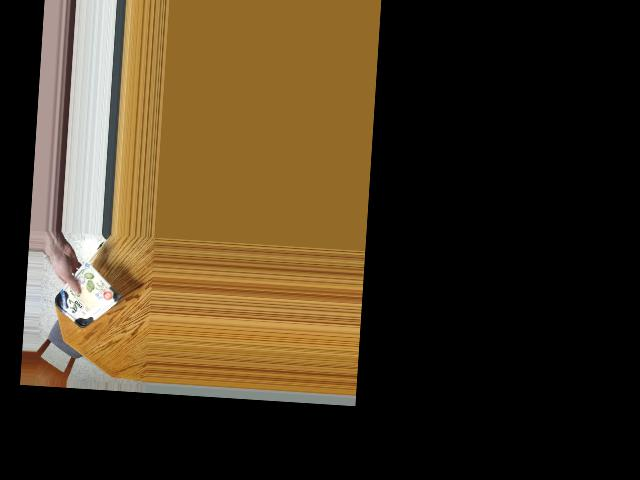cheese: (56, 279, 115, 321)
